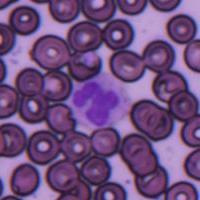N: (72, 74, 130, 130)
